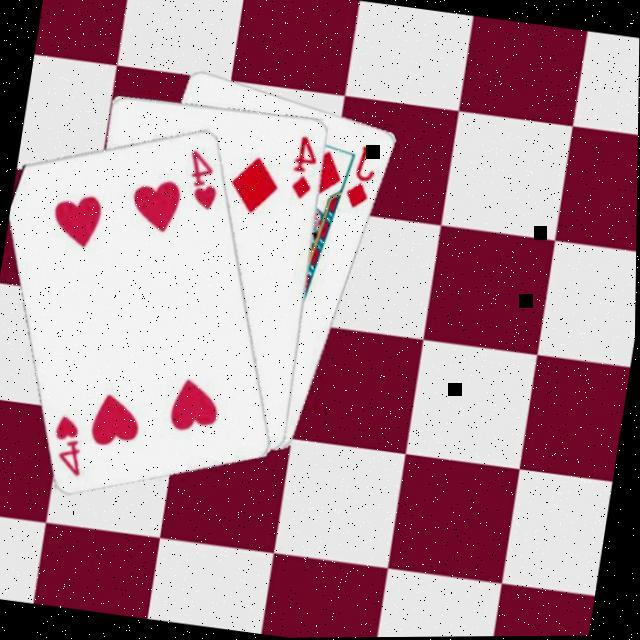4D: (288, 130, 325, 201)
4H: (181, 143, 230, 212), (48, 408, 96, 478)
JD: (343, 139, 384, 212)
